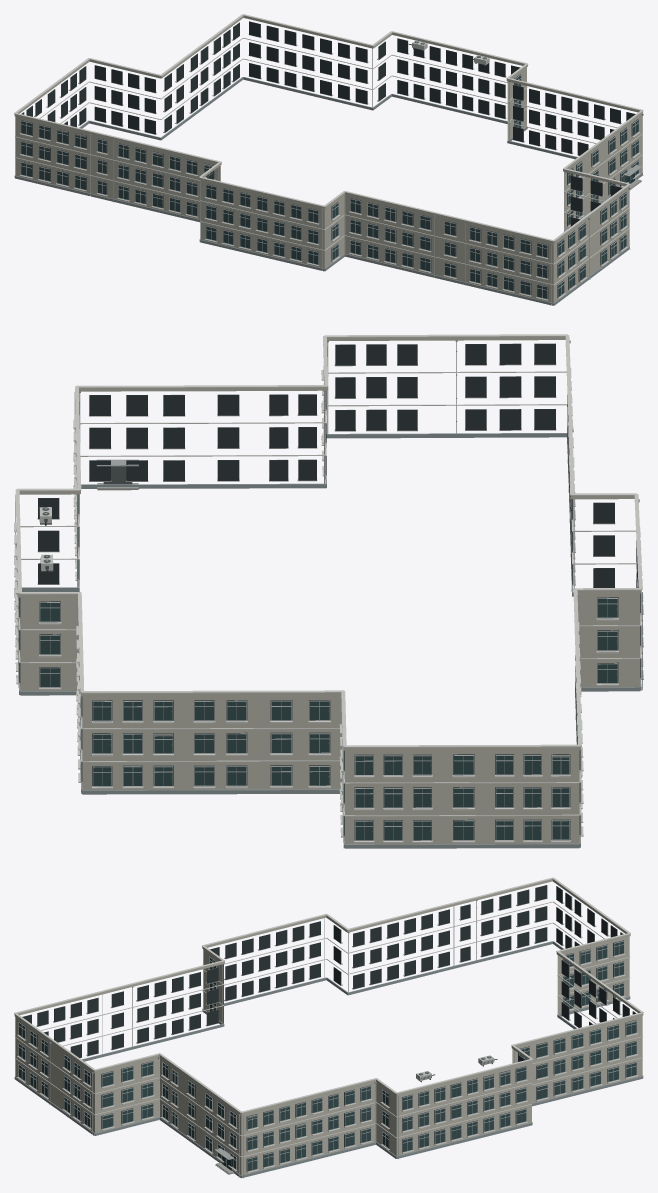
The model's file is osm_way_224896131.glb.
3 views of the same model, one above another, from view 1: azimuth 30°, elevation 25°; view 2: azimuth 150°, elevation 25°; view 3: azimuth 270°, elevation 25° (orthographic). The views are drawn at different scales.
Parts seen in each view (by area): view 1: Windows and facade details | 南邮仙林三食堂, Architecture | 南邮仙林三食堂, Roof services | 南邮仙林三食堂, EXTERIOR::osm_way_224896131::rainwater and roof service deta; view 2: Architecture | 南邮仙林三食堂, Windows and facade details | 南邮仙林三食堂, Roof services | 南邮仙林三食堂, EXTERIOR::osm_way_224896131::rainwater and roof service deta, EXTERIOR::osm_way_224896131::inferred entry doors canopy and; view 3: Windows and facade details | 南邮仙林三食堂, Architecture | 南邮仙林三食堂, Roof services | 南邮仙林三食堂, EXTERIOR::osm_way_224896131::rainwater and roof service deta.
Boxes of the visible parts, left/top/right/bottom form: Windows and facade details | 南邮仙林三食堂: left=19, top=21, right=640, bottom=300; Architecture | 南邮仙林三食堂: left=14, top=16, right=642, bottom=305; Roof services | 南邮仙林三食堂: left=14, top=14, right=643, bottom=241; EXTERIOR::osm_way_224896131::rainwater and roof service deta: left=89, top=40, right=643, bottom=305; Architecture | 南邮仙林三食堂: left=18, top=336, right=641, bottom=848; Windows and facade details | 南邮仙林三食堂: left=14, top=343, right=643, bottom=843; Roof services | 南邮仙林三食堂: left=15, top=334, right=642, bottom=747; EXTERIOR::osm_way_224896131::rainwater and roof service deta: left=39, top=340, right=639, bottom=694; EXTERIOR::osm_way_224896131::inferred entry doors canopy and: left=96, top=459, right=138, bottom=490; Windows and facade details | 南邮仙林三食堂: left=17, top=885, right=637, bottom=1178; Architecture | 南邮仙林三食堂: left=14, top=879, right=643, bottom=1177; Roof services | 南邮仙林三食堂: left=14, top=877, right=643, bottom=1112; EXTERIOR::osm_way_224896131::rainwater and roof service deta: left=49, top=900, right=497, bottom=1177.
Size of the model in its own units: 101 by 13.98 by 114.
